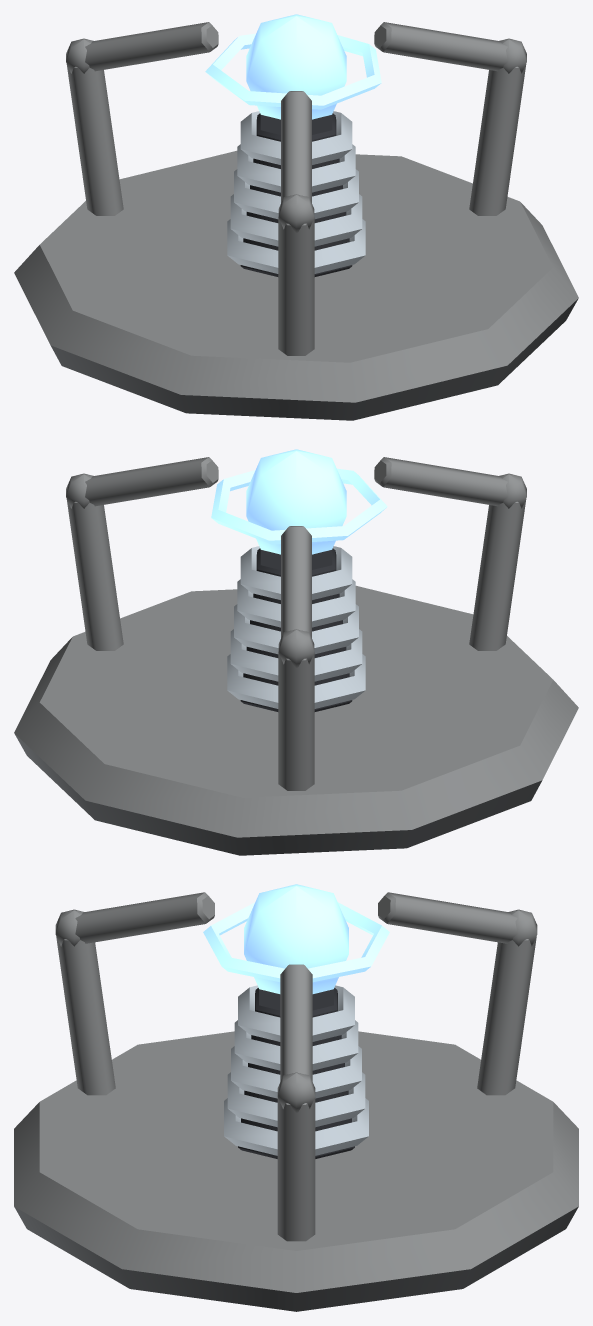
File: R4D_EMPTrap_LOD1.glb
The picture shows the model from 3 angles, top to bottom: view 1: azimuth 30°, elevation 25°; view 2: azimuth 150°, elevation 25°; view 3: azimuth 270°, elevation 25°; orthographic projection. The views are drawn at different scales.
Parts seen in each view (by area): view 1: R4D_EMPTrap_LOD1; view 2: R4D_EMPTrap_LOD1; view 3: R4D_EMPTrap_LOD1.
Boxes of the visible parts, x1,y1,x2,y2 form: R4D_EMPTrap_LOD1: [14, 14, 578, 420]; R4D_EMPTrap_LOD1: [14, 449, 578, 855]; R4D_EMPTrap_LOD1: [14, 884, 578, 1311].
Size of the model in its own units: 0.44 by 0.25 by 0.4185.
